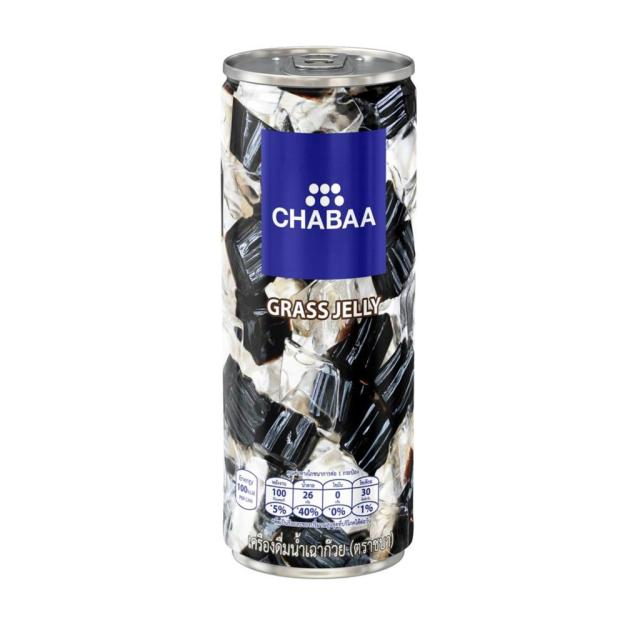can: (220, 44, 415, 582)
